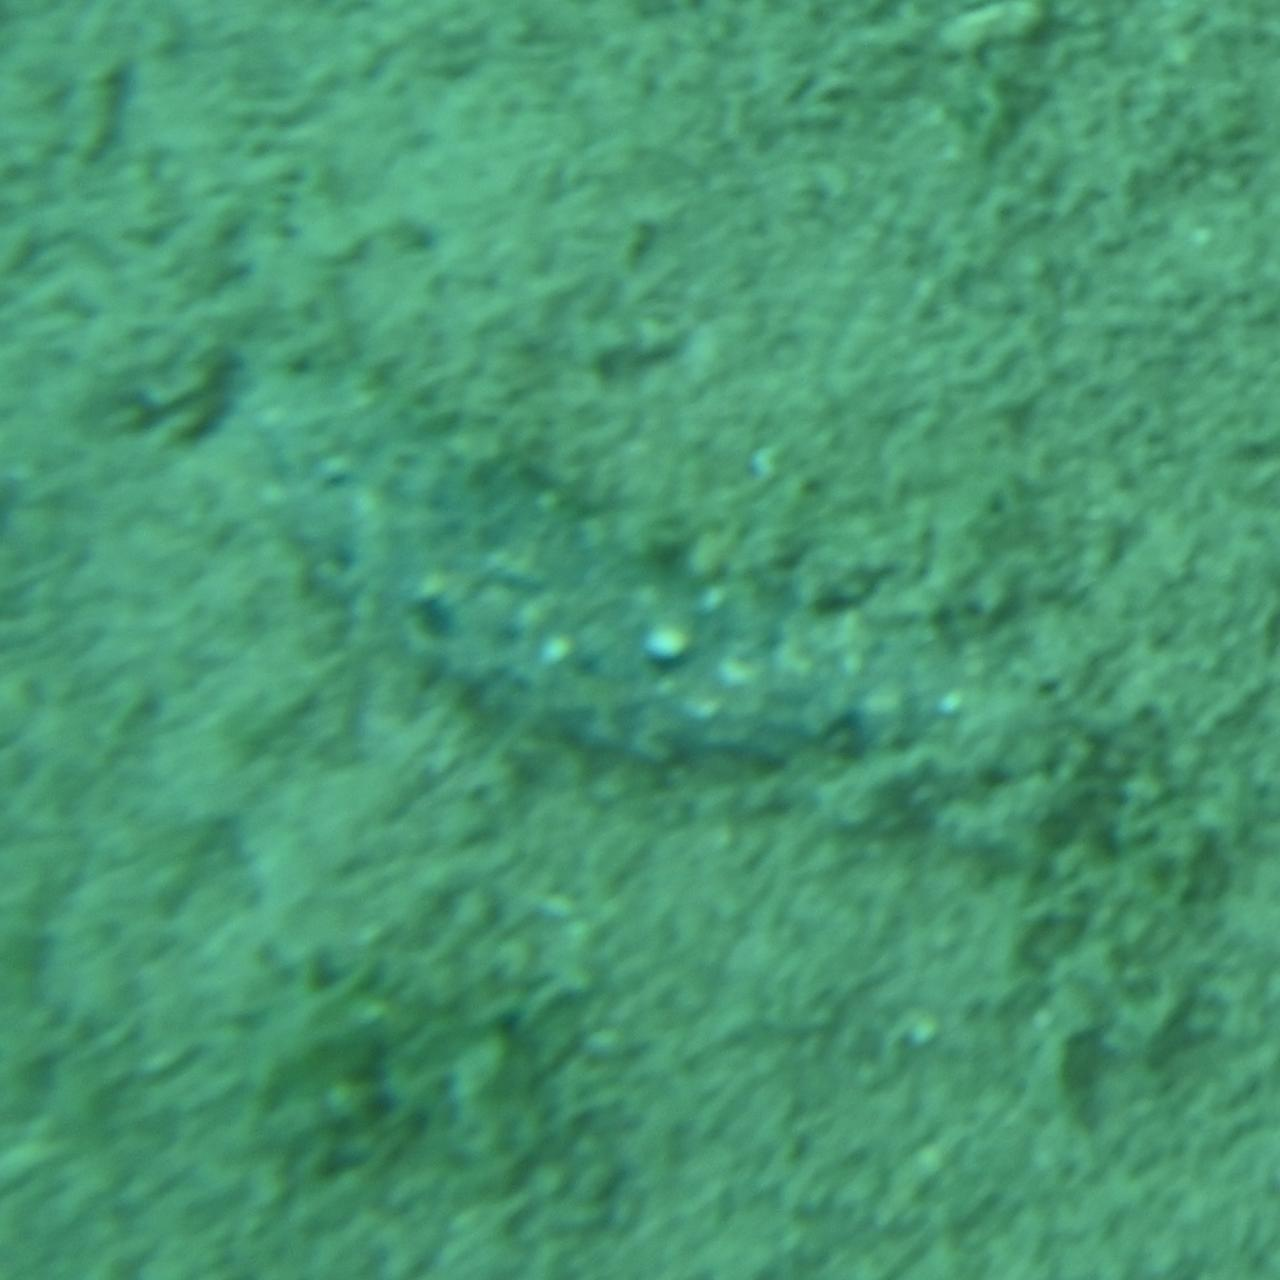Holothuria tubulosa: (279, 453, 1001, 827)
